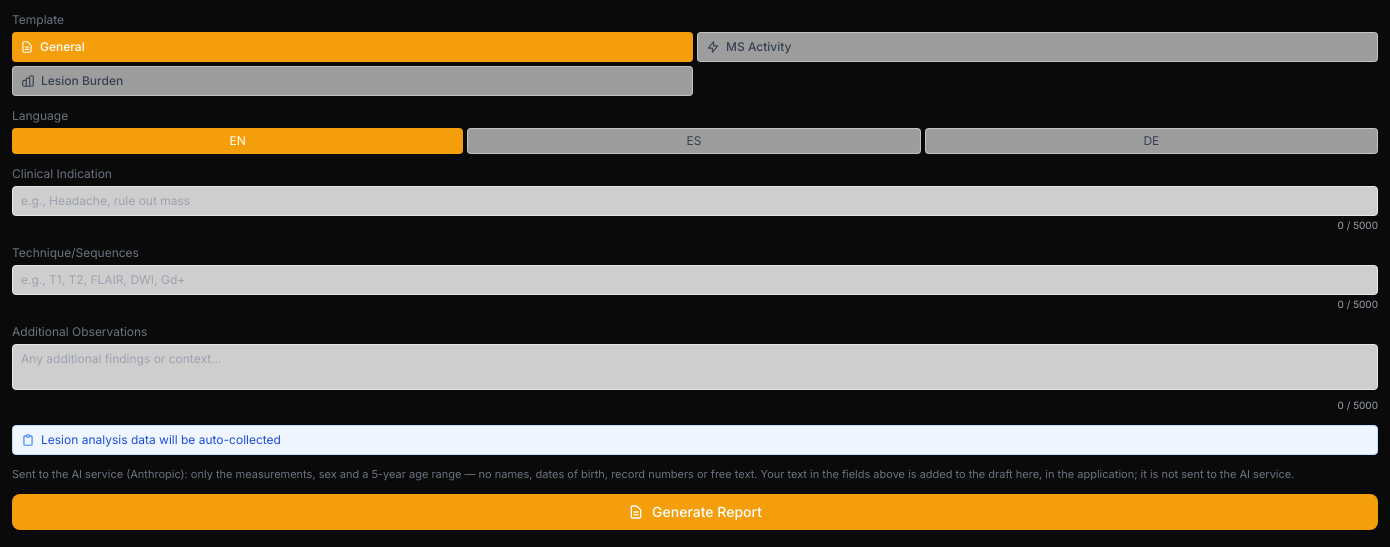
Test: CAPA-014 report draft (third review) › rc066 each typed field is limited to 5000 characters with a visible counter
Step 1. Type "abc" into the field with test id "report-indication-input" → {"x": 695, "y": 201}, box [12,186,1378,216]
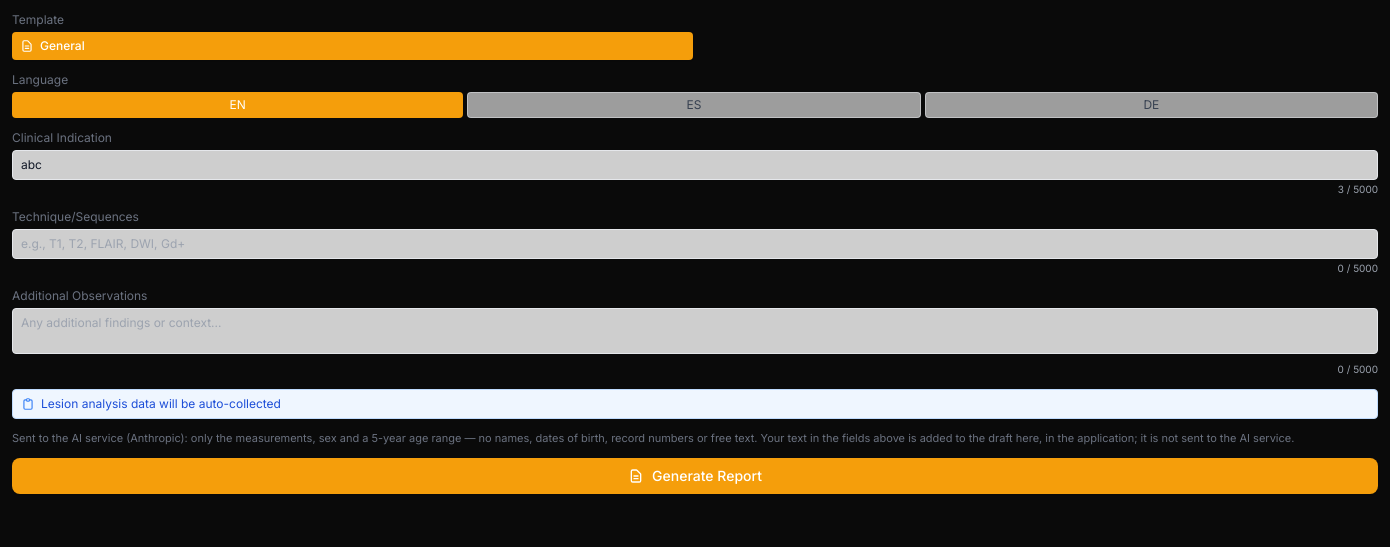
Check: the text with test id "report-technique-count" reads "0 / 5000", box [1338,262,1378,274]
Check: the text with test id "report-indication-count" reads "3 / 5000", box [1338,183,1378,195]
